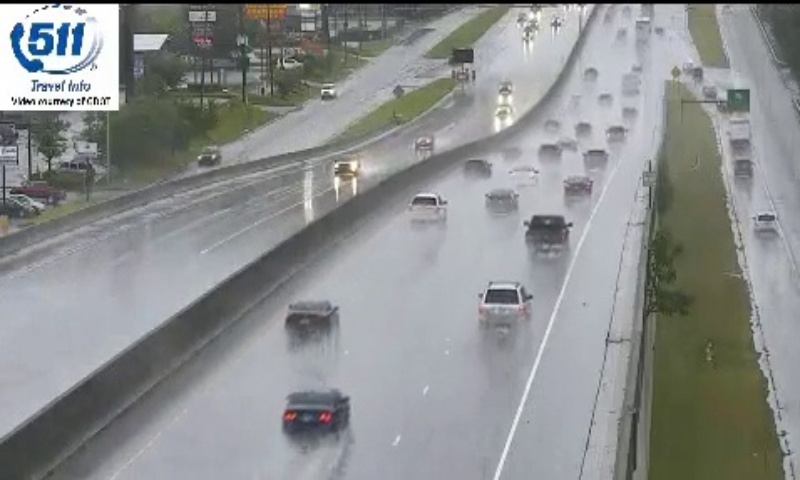car: (282, 390, 349, 436), (480, 283, 528, 327), (286, 300, 338, 339), (525, 215, 569, 253), (408, 193, 445, 221)
